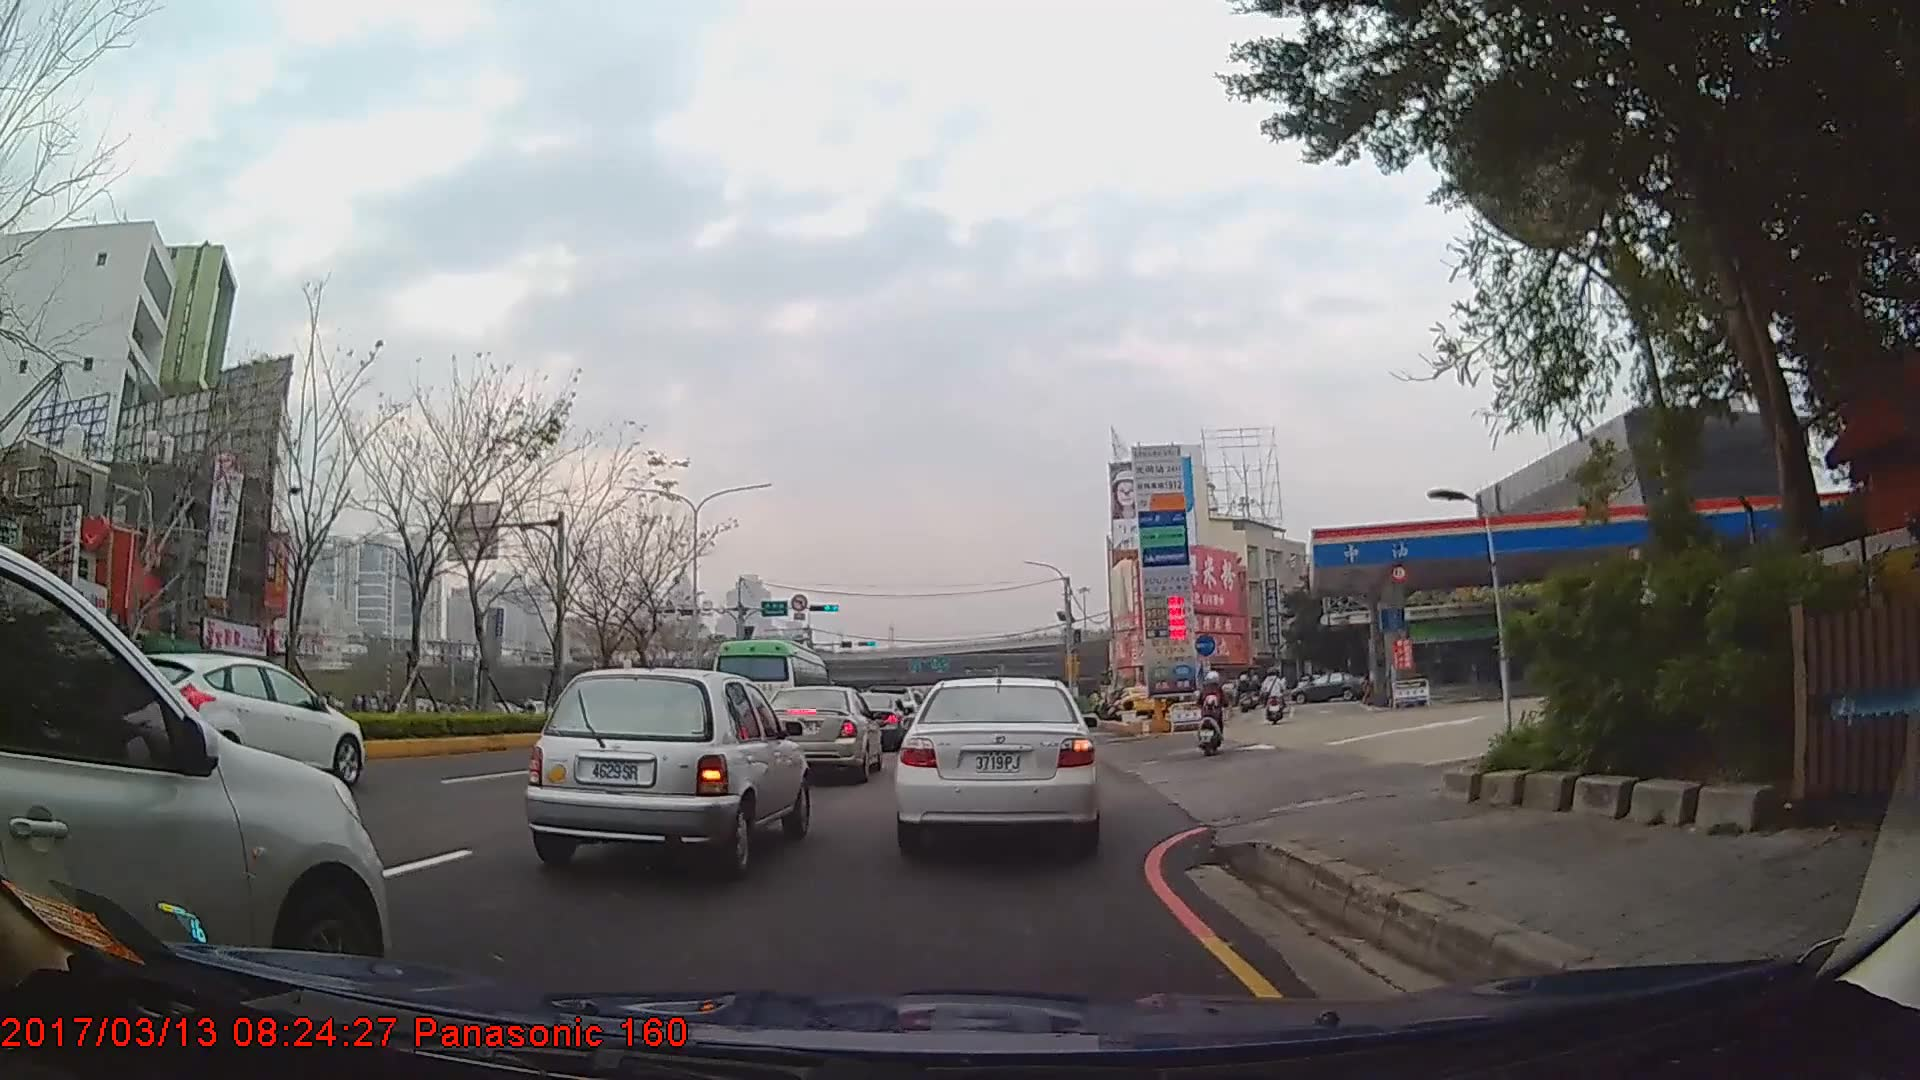rider: (1195, 668, 1229, 755), (1259, 666, 1288, 723)
vehicle: (0, 543, 393, 1002), (519, 661, 812, 875), (893, 673, 1098, 852), (122, 646, 362, 780), (754, 683, 881, 780), (711, 635, 829, 734), (1292, 670, 1366, 702), (1116, 683, 1160, 715)
